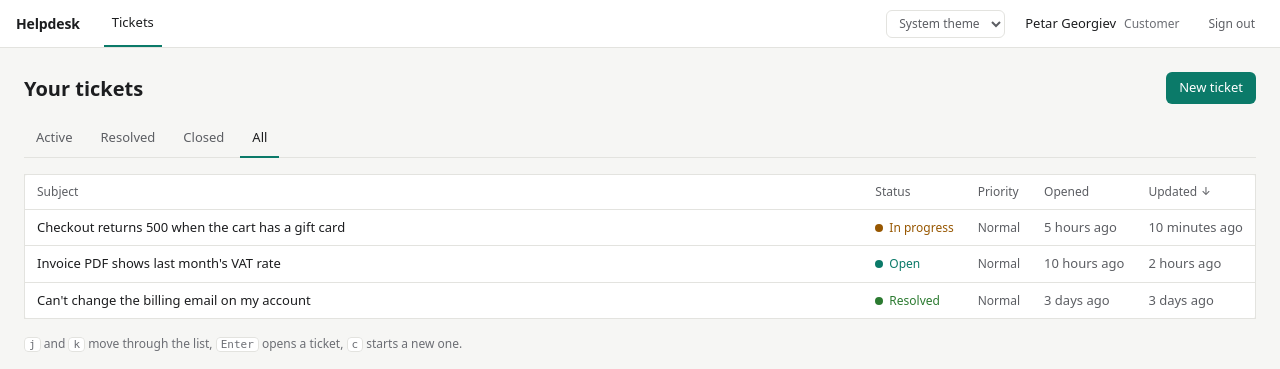
Test: the ticket list › sorts by when tickets were opened, newest or oldest first
The width and height of the screenshot is (1280, 369).
Expected: the table is shown, [24,174,1256,319]
Click the button "Opened".
click(1067, 192)  # box [1044,182,1089,200]
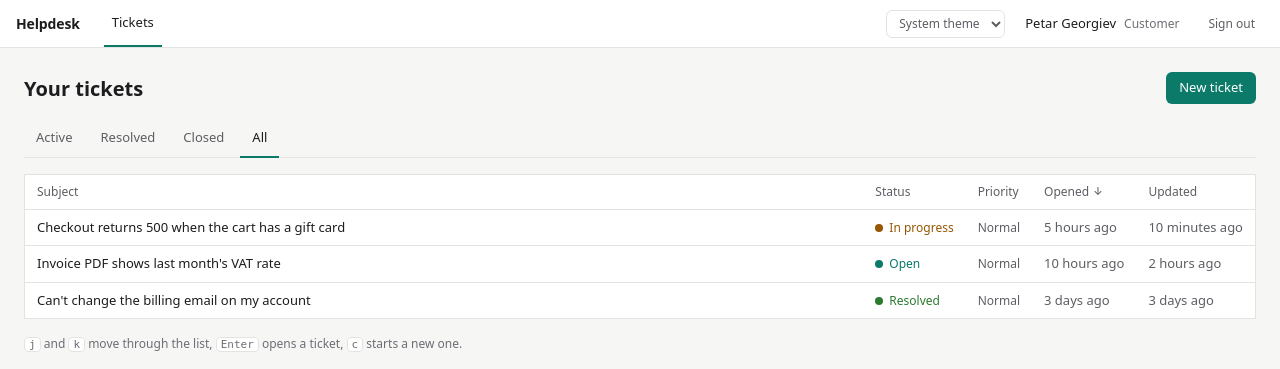
Expected: the link "Checkout returns 500 when the cart has a gift card" is shown, [37,218,345,236]
Click the button "Opened ↓".
click(1073, 192)  # box [1044,182,1102,200]
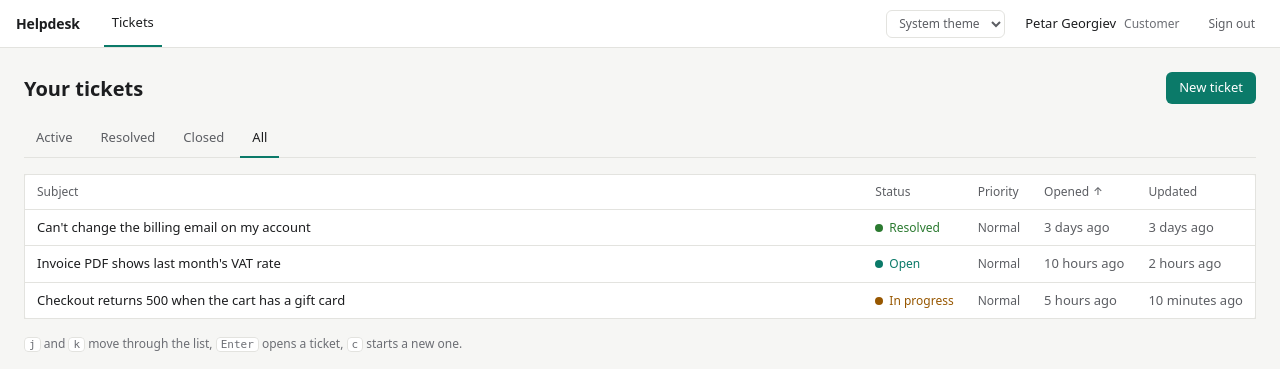
Result: the link "Can't change the billing email on my account" is shown at [37,218,311,236]
